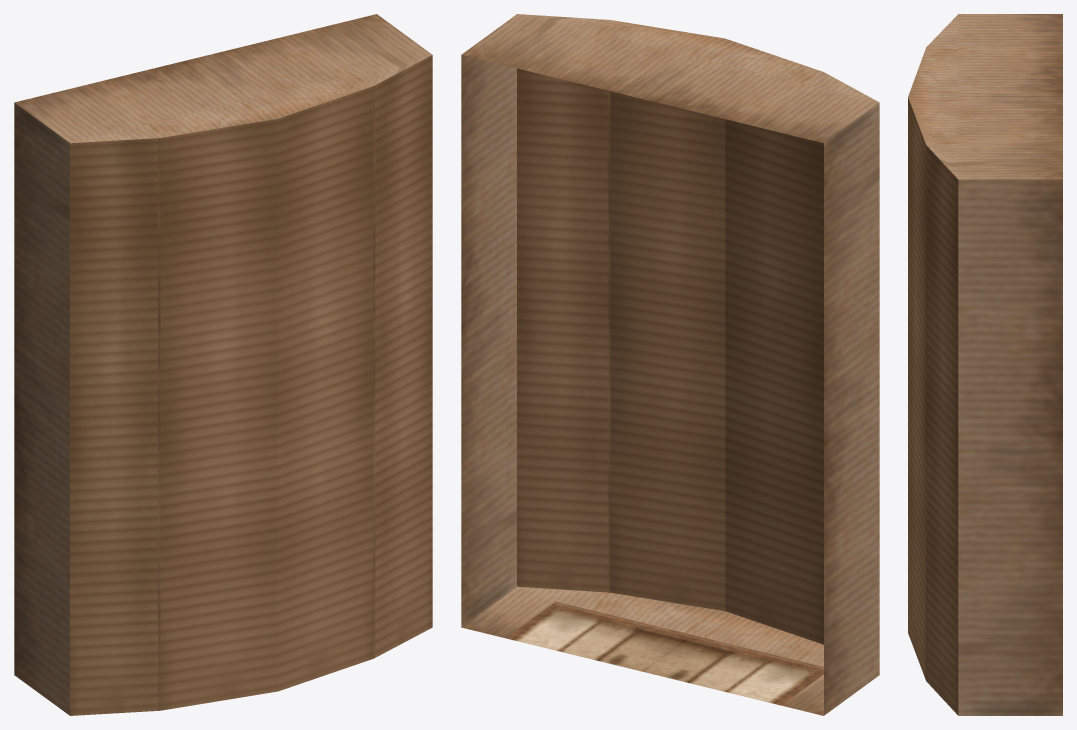
The model's file is urbanshedb02a_wtf.obj.
The picture shows the model from 3 angles, left to right: view 1: azimuth 30°, elevation 25°; view 2: azimuth 150°, elevation 25°; view 3: azimuth 270°, elevation 25°; orthographic projection. The views are drawn at different scales.
Parts seen in each view (by area): view 1: group3, group4, group5; view 2: group3, group4, group5; view 3: group4, group3, group5.
Part boxes in pixels (box(x1,y1,x2,y2)): group3: box(70, 55, 432, 715); group4: box(14, 55, 431, 715); group5: box(14, 14, 432, 143); group3: box(517, 68, 823, 644); group4: box(461, 14, 879, 715); group5: box(461, 14, 879, 705); group4: box(908, 14, 1062, 715); group3: box(908, 97, 958, 715); group5: box(958, 14, 1062, 179).
Bounding box in the file's own units: 437 × 660 × 173.
